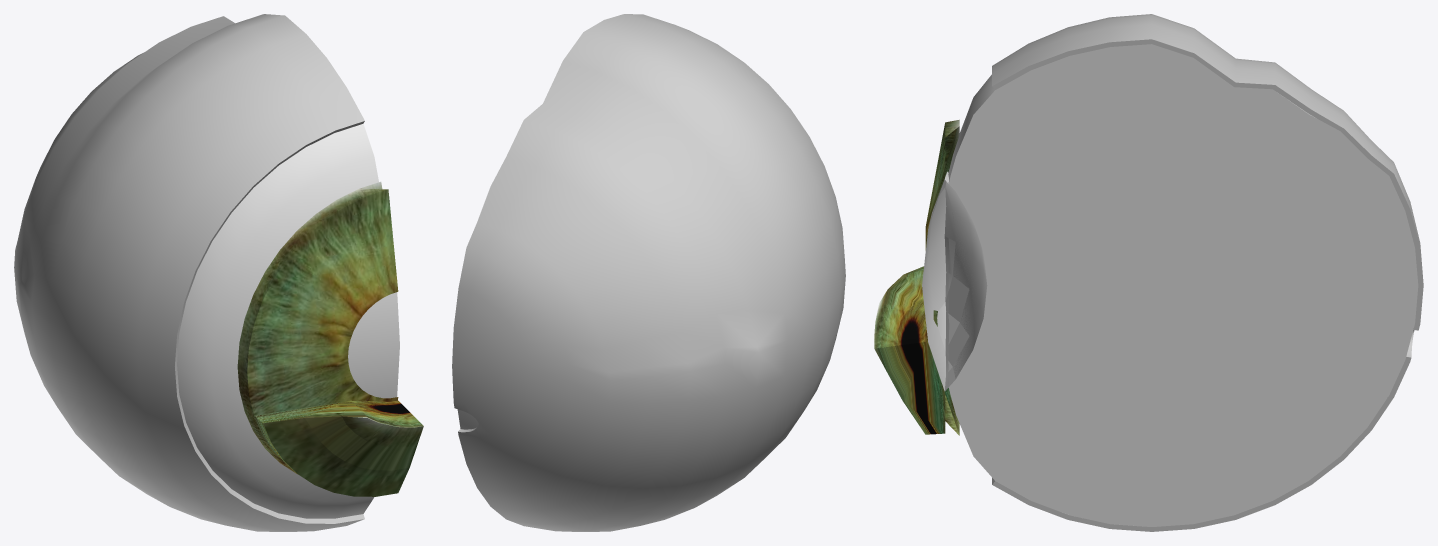
The model's file is Hyphema.FBX.
3 views of the same model, side by side, from view 1: azimuth 30°, elevation 25°; view 2: azimuth 150°, elevation 25°; view 3: azimuth 270°, elevation 25° (orthographic). The views are drawn at different scales.
Parts seen in each view (by area): view 1: bRetina, bCorpusVitreum, bIris, eHyphema, bLens; view 2: bRetina; view 3: bCorpusVitreum, bRetina, bLens, eHyphema, bIris.
Part boxes in pixels (<box>): bRetina: <box>14,14,364,531</box>; bCorpusVitreum: <box>177,123,378,518</box>; bIris: <box>237,181,398,474</box>; eHyphema: <box>254,400,423,496</box>; bLens: <box>348,292,399,398</box>; bRetina: <box>452,14,845,531</box>; bCorpusVitreum: <box>948,44,1418,526</box>; bRetina: <box>992,14,1423,531</box>; bLens: <box>922,171,987,391</box>; eHyphema: <box>874,266,944,434</box>; bIris: <box>925,119,959,435</box>.
Size of the model in its own units: 0.4029 by 0.8031 by 0.8117.
